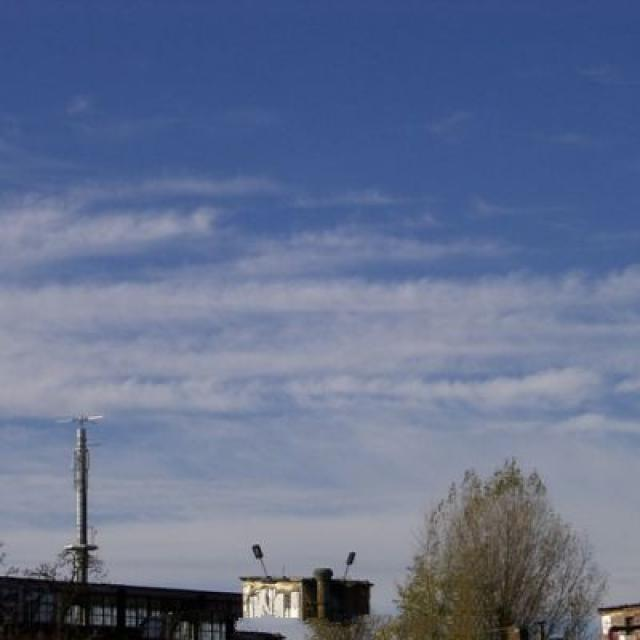Ci: (1, 89, 640, 423)
